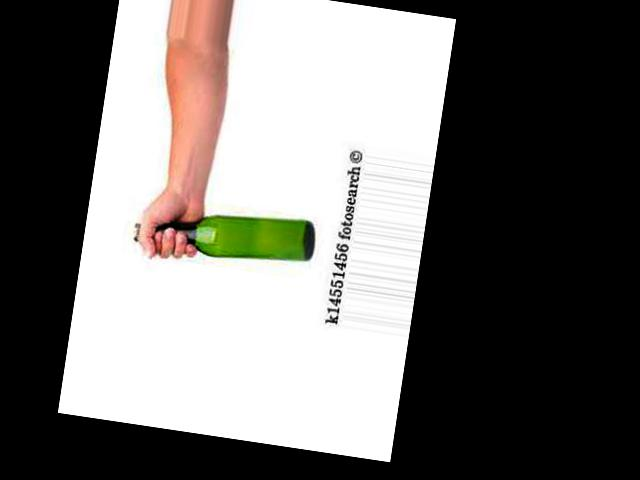beer: (133, 194, 318, 271)
